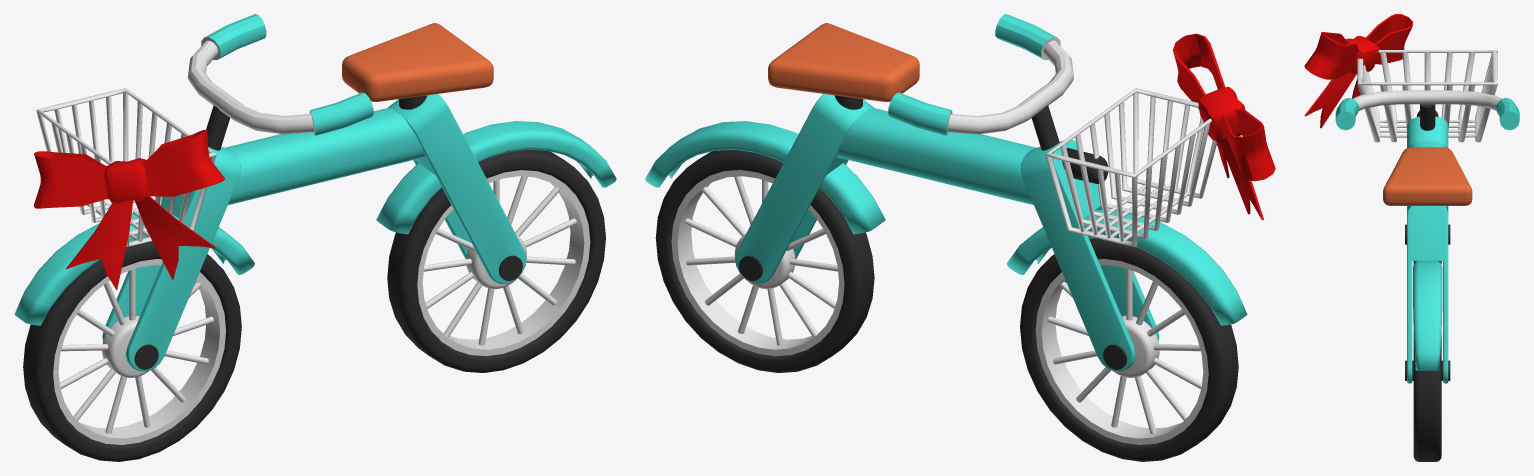
The model's file is bisiklet.fbx.
The picture shows the model from 3 angles, left to right: view 1: azimuth 30°, elevation 25°; view 2: azimuth 150°, elevation 25°; view 3: azimuth 270°, elevation 25°; orthographic projection. The views are drawn at different scales.
Visible parts, largest first — view 1: tekerler, govde, camurlukSepet, direksyonSele, kurdela; view 2: tekerler, govde, camurlukSepet, direksyonSele, kurdela; view 3: camurlukSepet, direksyonSele, kurdela, govde, tekerler.
Part boxes in pixels (box(x1,y1,x2,y2)): tekerler: box(23, 149, 605, 461); govde: box(102, 94, 526, 371); camurlukSepet: box(14, 88, 616, 325); direksyonSele: box(187, 14, 493, 150); kurdela: box(33, 129, 224, 290); tekerler: box(655, 149, 1238, 461); govde: box(735, 94, 1159, 371); camurlukSepet: box(645, 88, 1247, 325); direksyonSele: box(768, 14, 1073, 150); kurdela: box(1173, 33, 1275, 220); camurlukSepet: box(1357, 50, 1497, 370); direksyonSele: box(1335, 90, 1519, 205); kurdela: box(1304, 14, 1413, 128); govde: box(1407, 116, 1448, 383); tekerler: box(1405, 224, 1450, 461).
Bounding box in the file's own units: 581 × 343 × 236.
